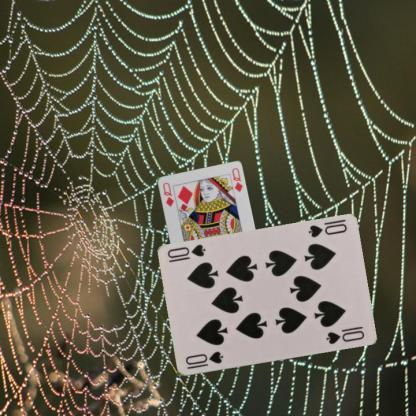10s: (182, 349, 224, 371), (305, 221, 348, 239)
Qd: (160, 180, 175, 209)
